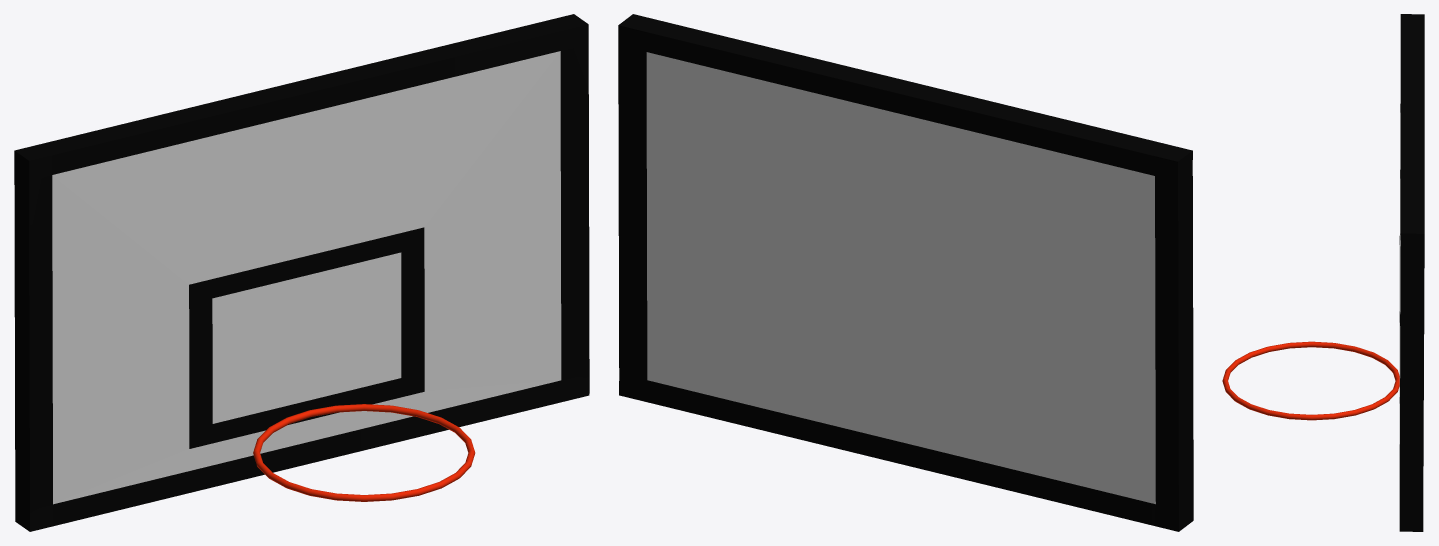
File: Basket 1.FBX
3 views of the same model, side by side, from view 1: azimuth 30°, elevation 25°; view 2: azimuth 150°, elevation 25°; view 3: azimuth 270°, elevation 25° (orthographic). The views are drawn at different scales.
Parts seen in each view (by area): view 1: Box001, Torus001; view 2: Box001; view 3: Box001, Torus001.
Boxes of the visible parts, box(x1,y1,x2,y2) form: Box001: box(14, 14, 589, 531); Torus001: box(253, 404, 475, 501); Box001: box(618, 14, 1193, 531); Box001: box(1399, 14, 1424, 531); Torus001: box(1222, 341, 1399, 420).
Size of the model in its own units: 454 by 288 by 177.
